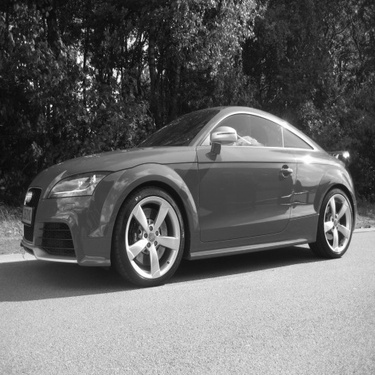car: (14, 102, 360, 296)
